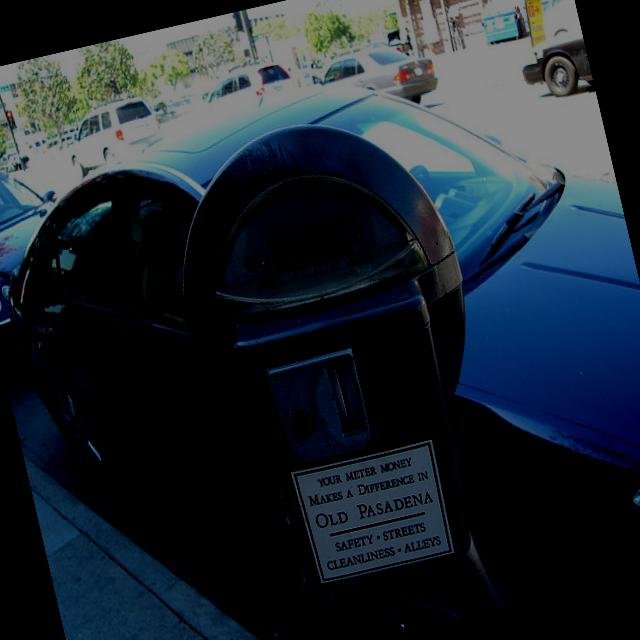Vehicle: (0, 12, 640, 640), (0, 152, 92, 377), (305, 33, 442, 127), (59, 94, 168, 178), (195, 50, 316, 107), (514, 23, 594, 102), (479, 0, 527, 43)
